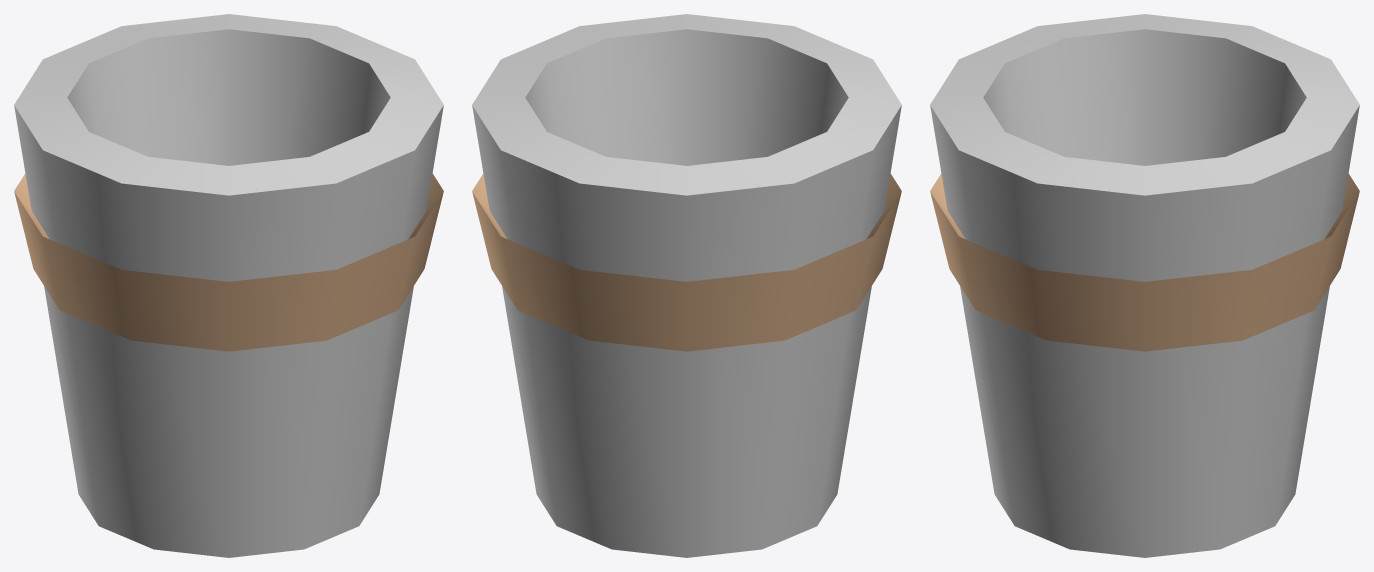
Rendered from bucket.glb.
The picture shows the model from 3 angles, left to right: view 1: azimuth 30°, elevation 25°; view 2: azimuth 150°, elevation 25°; view 3: azimuth 270°, elevation 25°; orthographic projection.
Visible parts, largest first — view 1: Cylinder.002; view 2: Cylinder.002; view 3: Cylinder.002.
Boxes of the visible parts, <box> form: Cylinder.002: <box>14,14,443,557</box>; Cylinder.002: <box>472,14,901,557</box>; Cylinder.002: <box>930,14,1359,557</box>.
Size of the model in its own units: 0.4 by 0.4074 by 0.4.
